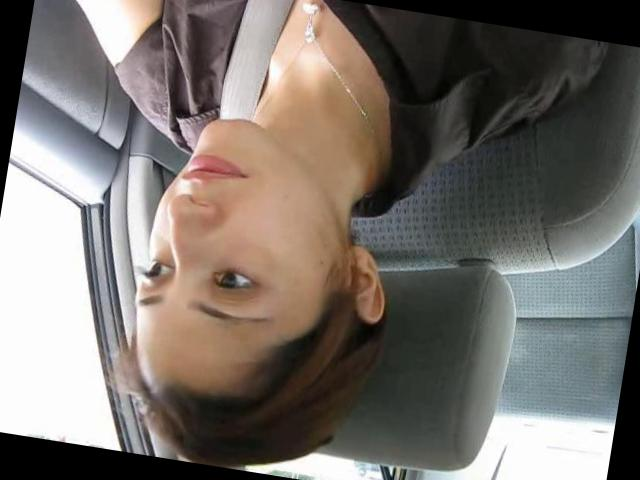eye_open: (202, 257, 266, 306), (137, 254, 176, 288)
face: (127, 105, 339, 358)
